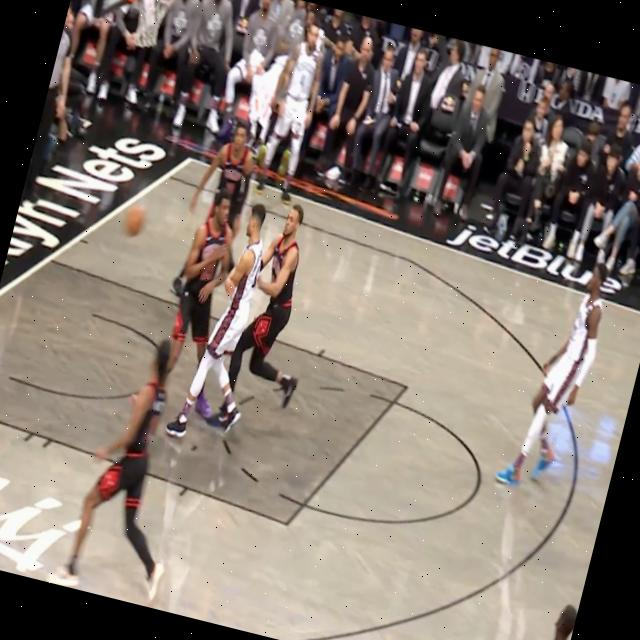foul: (109, 154, 361, 483)
no foul: (52, 328, 194, 603)
